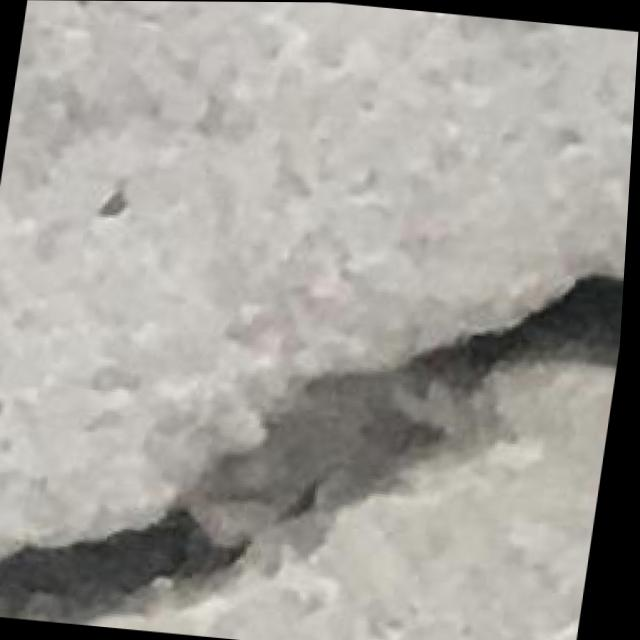Crack: (0, 201, 626, 640)
